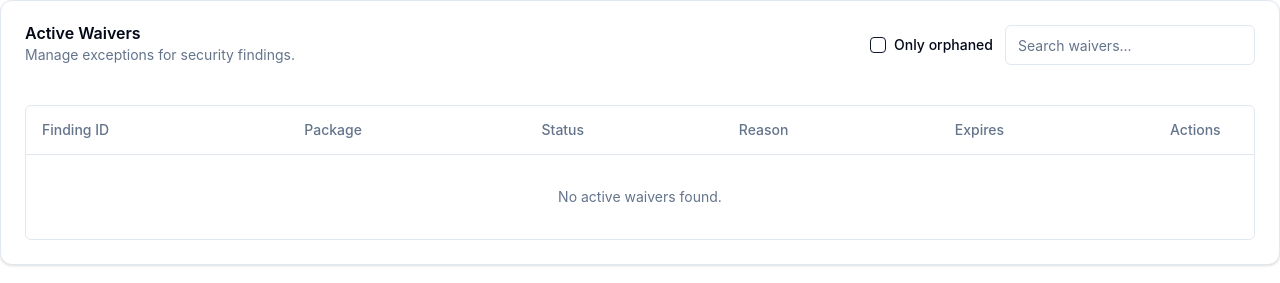
Test: the project waiver list › names an empty search as such
The width and height of the screenshot is (1280, 283).
Type "nothing" into the field with placeholder "Search waivers..." at (1130, 45), box [1005,25,1255,65]
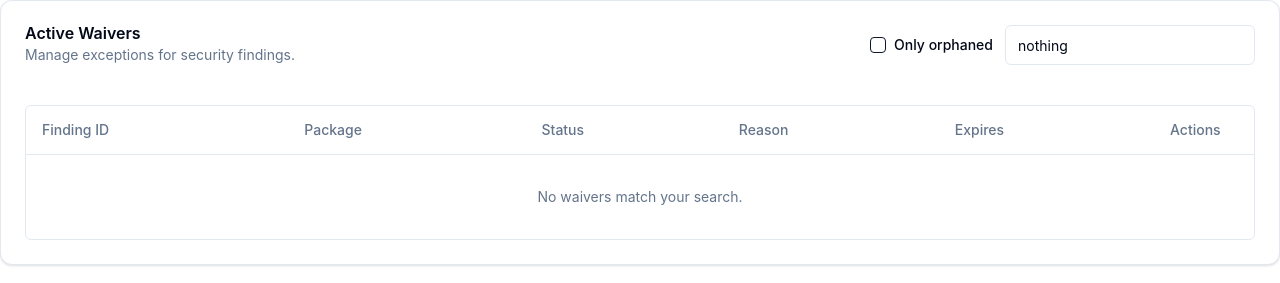
expect the text "No waivers match your search." is shown: met, box [537,188,742,204]
